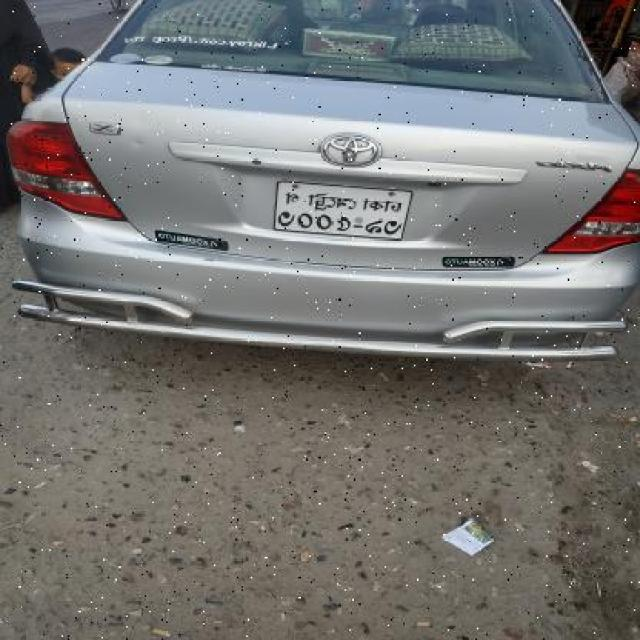numberplate: (272, 178, 412, 240)
